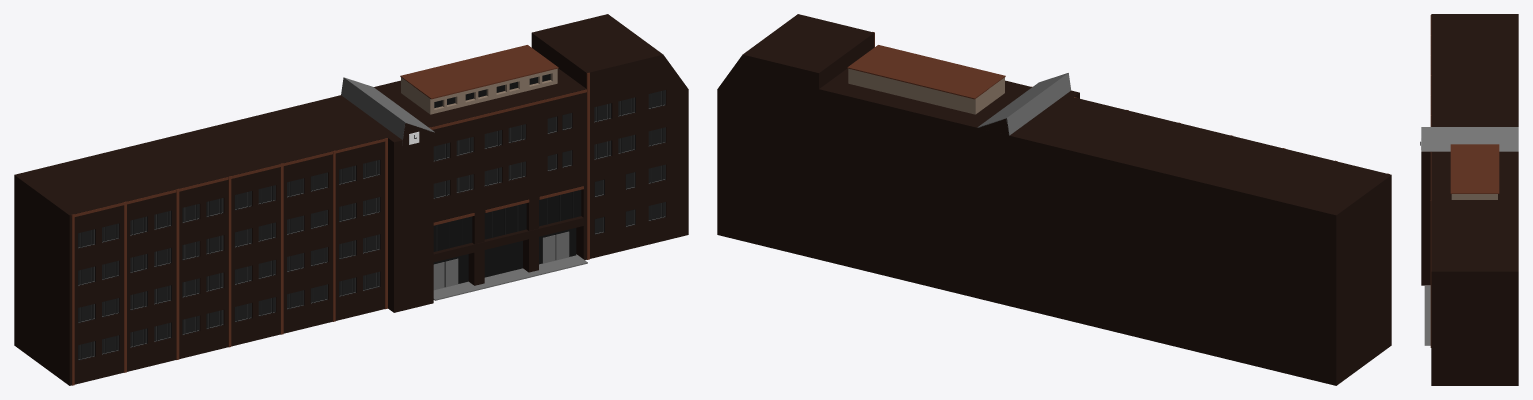
The model's file is woochon.fbx.
3 renders of one model, left to right at view 1: azimuth 30°, elevation 25°; view 2: azimuth 150°, elevation 25°; view 3: azimuth 270°, elevation 25°, orthographic. The views are drawn at different scales.
Parts seen in each view (by area): view 1: Box001, Box002, Box003, Box261, Box278, Box004, Gengon002, Box012, Box014, Box268, Box057, Box058 (+2 smaller); view 2: Box001, Box002, Box003, Box261, Box004, Gengon002; view 3: Box002, Box001, Box261, Gengon002, Box003, Box014, Box008, Box004, Box268.
Part boxes in pixels (box(x1,y1,x2,y2)): Box001: box(14, 68, 625, 385); Box002: box(531, 14, 688, 258); Box003: box(332, 95, 433, 312); Box261: box(400, 45, 558, 99); Box278: box(433, 190, 581, 251); Box004: box(401, 68, 557, 114); Gengon002: box(341, 77, 434, 142); Box012: box(433, 228, 576, 286); Box014: box(433, 254, 587, 300); Box268: box(71, 89, 586, 217); Box057: box(228, 176, 231, 347); Box058: box(176, 188, 179, 359); Box001: box(780, 68, 1391, 385); Box002: box(717, 14, 874, 257); Box003: box(978, 90, 1079, 308); Box261: box(847, 45, 1005, 99); Box004: box(848, 68, 1004, 114); Gengon002: box(977, 73, 1071, 135); Box002: box(1431, 200, 1518, 385); Box001: box(1431, 14, 1518, 199); Box261: box(1450, 144, 1499, 193); Gengon002: box(1421, 127, 1518, 151); Box003: box(1421, 152, 1430, 285); Box014: box(1424, 286, 1430, 345); Box008: box(1430, 200, 1431, 347); Box004: box(1451, 194, 1497, 199); Box268: box(1431, 16, 1431, 199).
Size of the model in its own units: 1216 by 212 by 352.
